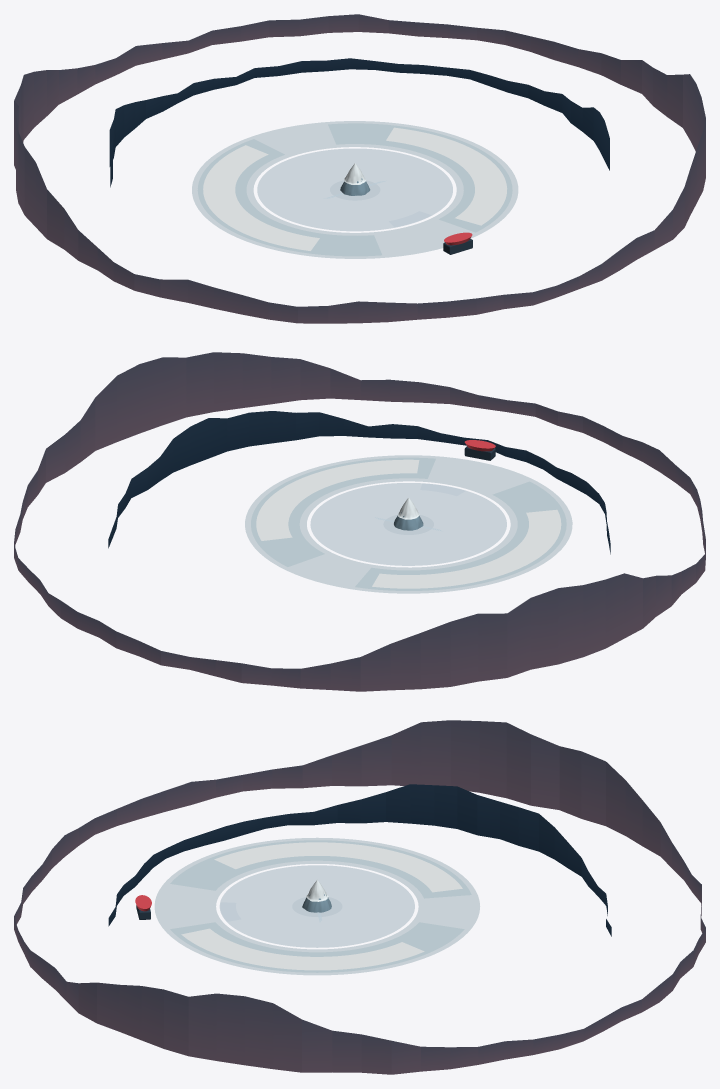
The model's file is rowplay-venue-skierg-medium.glb.
3 views of the same model, one above another, from view 1: azimuth 30°, elevation 25°; view 2: azimuth 150°, elevation 25°; view 3: azimuth 270°, elevation 25° (orthographic).
Visible parts, largest first — view 1: environment:skierg:horizon-far, environment:skierg:stadium-field, environment:skierg:apron, environment:skierg:horizon-mid, environment:skierg:valley-sun-2, environment:skierg:valley-sun-1, environment:skierg:valley-shadow-2, environment:skierg:valley-shadow-1, environment:skierg:valley-sun-3; view 2: environment:skierg:horizon-far, environment:skierg:stadium-field, environment:skierg:horizon-mid, environment:skierg:apron, environment:skierg:valley-shadow-1, environment:skierg:valley-sun-2, environment:skierg:valley-sun-1, environment:skierg:valley-shadow-2, environment:skierg:valley-sun-3; view 3: environment:skierg:horizon-far, environment:skierg:horizon-mid, environment:skierg:stadium-field, environment:skierg:apron, environment:skierg:valley-sun-2, environment:skierg:valley-sun-1, environment:skierg:valley-shadow-1, environment:skierg:valley-shadow-2, environment:skierg:valley-sun-3.
Part boxes in pixels (left/top/right/bottom): environment:skierg:horizon-far: left=14, top=14, right=705, bottom=323; environment:skierg:stadium-field: left=257, top=148, right=452, bottom=231; environment:skierg:apron: left=192, top=121, right=518, bottom=258; environment:skierg:horizon-mid: left=109, top=58, right=609, bottom=187; environment:skierg:valley-sun-2: left=386, top=127, right=507, bottom=225; environment:skierg:valley-sun-1: left=203, top=145, right=319, bottom=250; environment:skierg:valley-shadow-2: left=328, top=123, right=512, bottom=232; environment:skierg:valley-shadow-1: left=197, top=139, right=381, bottom=256; environment:skierg:valley-sun-3: left=203, top=149, right=250, bottom=189; environment:skierg:horizon-far: left=14, top=352, right=705, bottom=691; environment:skierg:stadium-field: left=310, top=483, right=506, bottom=565; environment:skierg:horizon-mid: left=108, top=411, right=610, bottom=554; environment:skierg:apron: left=245, top=455, right=572, bottom=593; environment:skierg:valley-shadow-1: left=355, top=481, right=566, bottom=590; environment:skierg:valley-sun-2: left=256, top=459, right=419, bottom=540; environment:skierg:valley-sun-1: left=372, top=509, right=561, bottom=588; environment:skierg:valley-shadow-2: left=251, top=457, right=435, bottom=566; environment:skierg:valley-sun-3: left=385, top=572, right=482, bottom=588; environment:skierg:horizon-far: left=14, top=720, right=705, bottom=1074; environment:skierg:horizon-mid: left=108, top=784, right=611, bottom=936; environment:skierg:stadium-field: left=219, top=865, right=414, bottom=947; environment:skierg:apron: left=154, top=837, right=480, bottom=975; environment:skierg:valley-sun-2: left=181, top=928, right=424, bottom=970; environment:skierg:valley-sun-1: left=214, top=842, right=462, bottom=892; environment:skierg:valley-shadow-1: left=170, top=840, right=471, bottom=898; environment:skierg:valley-shadow-2: left=170, top=922, right=464, bottom=972; environment:skierg:valley-sun-3: left=379, top=851, right=458, bottom=884.
Size of the model in its own units: 231 by 34.39 by 234.
